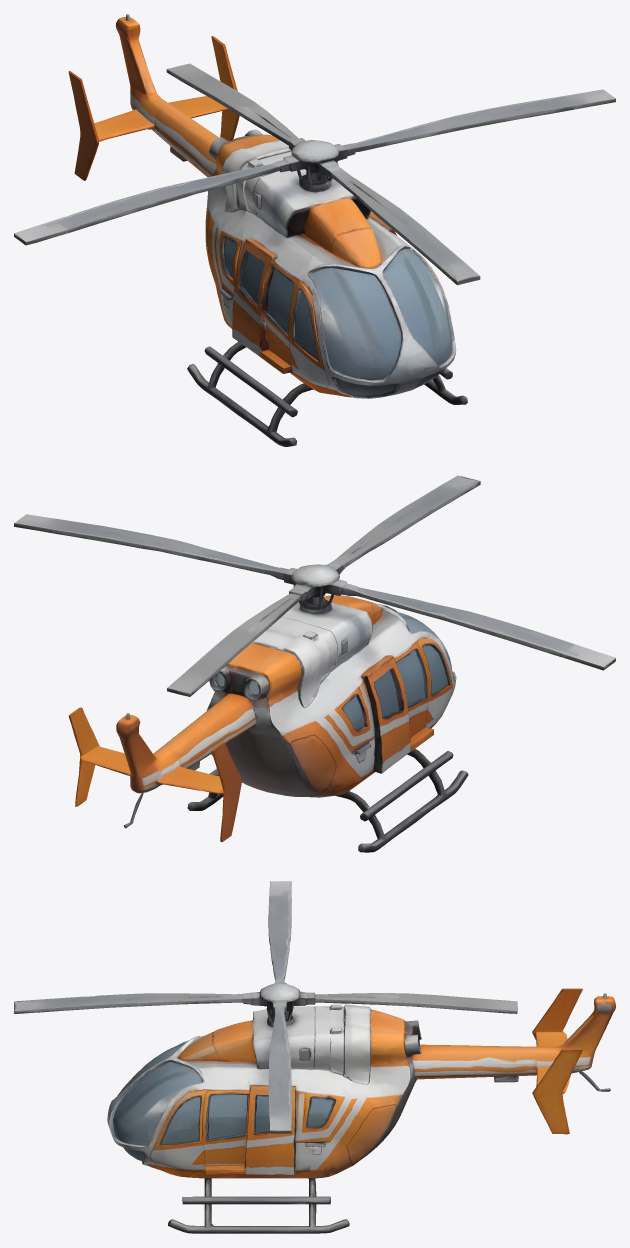
Rendered from helicoptero.glb.
The picture shows the model from 3 angles, top to bottom: view 1: azimuth 30°, elevation 25°; view 2: azimuth 150°, elevation 25°; view 3: azimuth 270°, elevation 25°; orthographic projection. The views are drawn at different scales.
Parts seen in each view (by area): view 1: tripo_node_c1d40160-17b9-416d-9c9b-290e23f93d16; view 2: tripo_node_c1d40160-17b9-416d-9c9b-290e23f93d16; view 3: tripo_node_c1d40160-17b9-416d-9c9b-290e23f93d16.
Part boxes in pixels (left/top/right/bottom): tripo_node_c1d40160-17b9-416d-9c9b-290e23f93d16: left=14, top=14, right=615, bottom=446; tripo_node_c1d40160-17b9-416d-9c9b-290e23f93d16: left=14, top=475, right=615, bottom=852; tripo_node_c1d40160-17b9-416d-9c9b-290e23f93d16: left=14, top=881, right=615, bottom=1233.
Size of the model in its own units: 10.28 by 4.04 by 10.5.
Materials: 1 (1 with a texture image).
